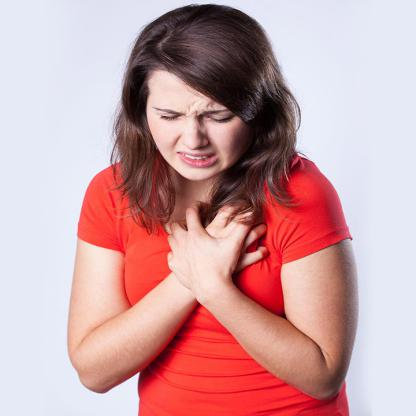pain: (140, 95, 245, 132)
